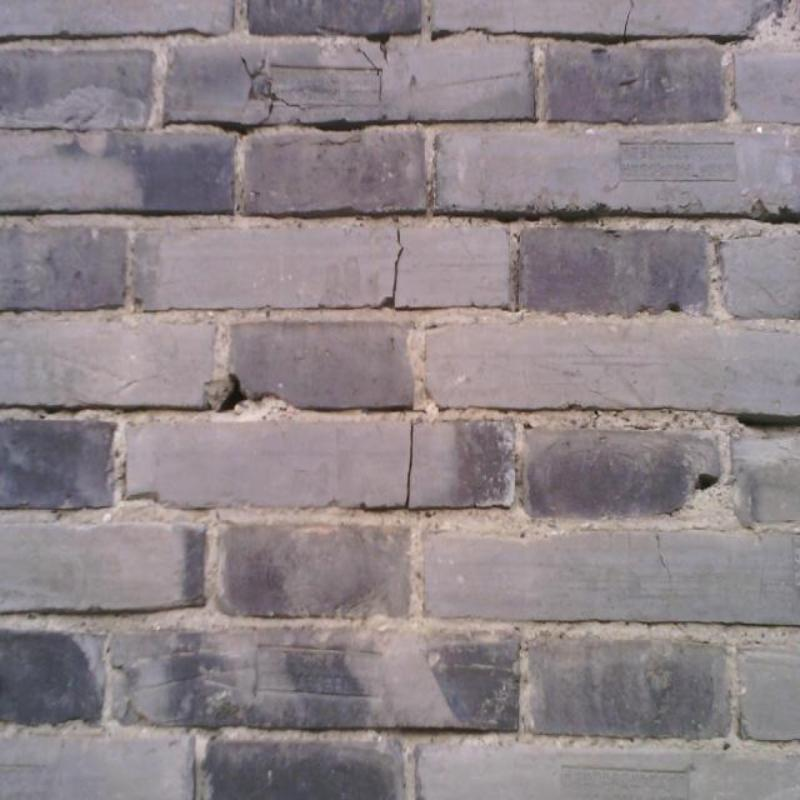pothole: (241, 56, 308, 125), (376, 231, 405, 307), (357, 49, 382, 100), (219, 376, 245, 411), (656, 531, 671, 582), (405, 425, 413, 507), (368, 35, 390, 60), (739, 419, 799, 428), (624, 0, 634, 37), (699, 479, 714, 490), (499, 217, 518, 222), (526, 216, 540, 221)
